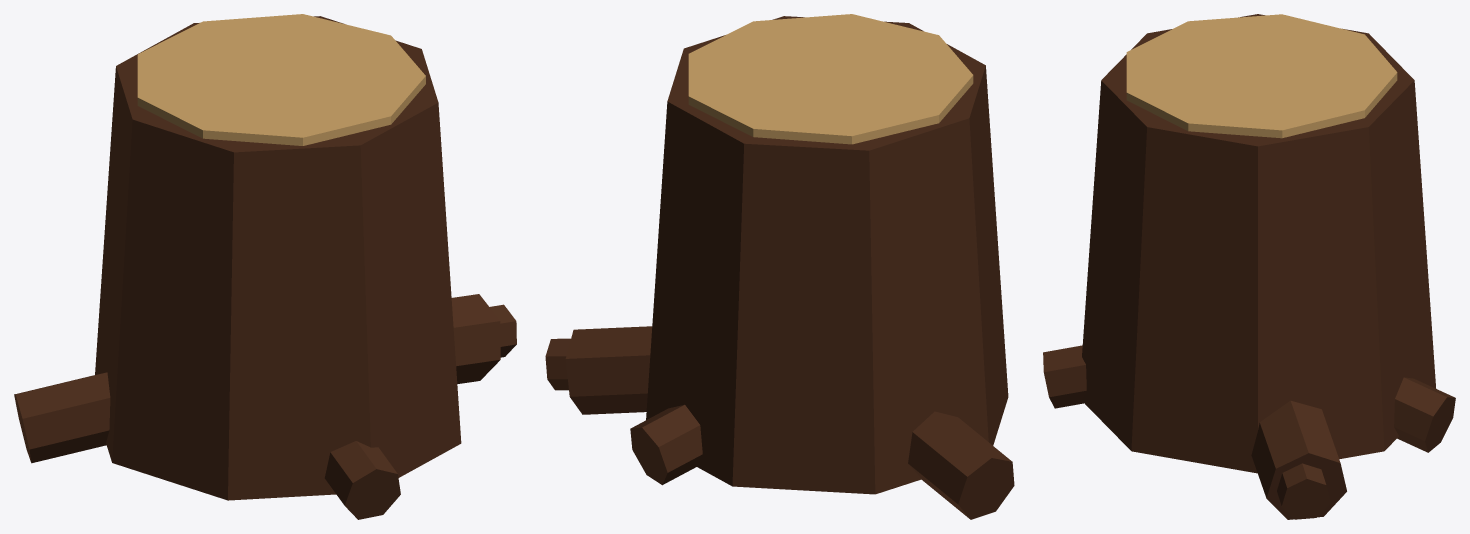
The model's file is stump_b.glb.
3 views of the same model, side by side, from view 1: azimuth 30°, elevation 25°; view 2: azimuth 150°, elevation 25°; view 3: azimuth 270°, elevation 25° (orthographic). The views are drawn at different scales.
Visible parts, largest first — view 1: Stump.001, Cut.001, Root_3.015, Root_4.014, Root_5, Root_1.015; view 2: Stump.001, Cut.001, Root_3.015, Root_5, Root_2.015, Root_1.015; view 3: Stump.001, Cut.001, Root_5, Root_2.015, Root_4.014, Root_1.015.
Part boxes in pixels (<box>): Stump.001: <box>95,16,461,500</box>; Cut.001: <box>137,14,425,145</box>; Root_3.015: <box>14,372,110,463</box>; Root_4.014: <box>324,441,400,519</box>; Root_5: <box>451,294,500,383</box>; Root_1.015: <box>489,304,516,357</box>; Stump.001: <box>646,16,1008,494</box>; Cut.001: <box>688,14,973,144</box>; Root_3.015: <box>908,411,1014,519</box>; Root_5: <box>565,326,652,414</box>; Root_2.015: <box>630,404,702,485</box>; Root_1.015: <box>545,338,570,390</box>; Stump.001: <box>1081,14,1435,473</box>; Cut.001: <box>1126,14,1397,138</box>; Root_5: <box>1251,400,1346,519</box>; Root_2.015: <box>1394,377,1455,452</box>; Root_4.014: <box>1043,345,1086,408</box>; Root_1.015: <box>1277,463,1330,519</box>.
Size of the model in its own units: 1.93 by 1.43 by 1.54.
